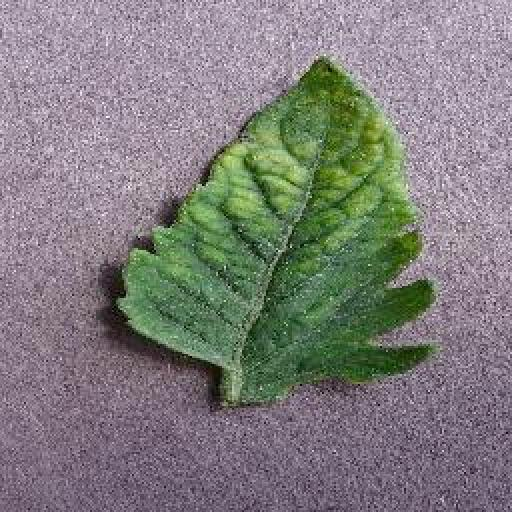disease_tomato: (108, 52, 442, 400)
